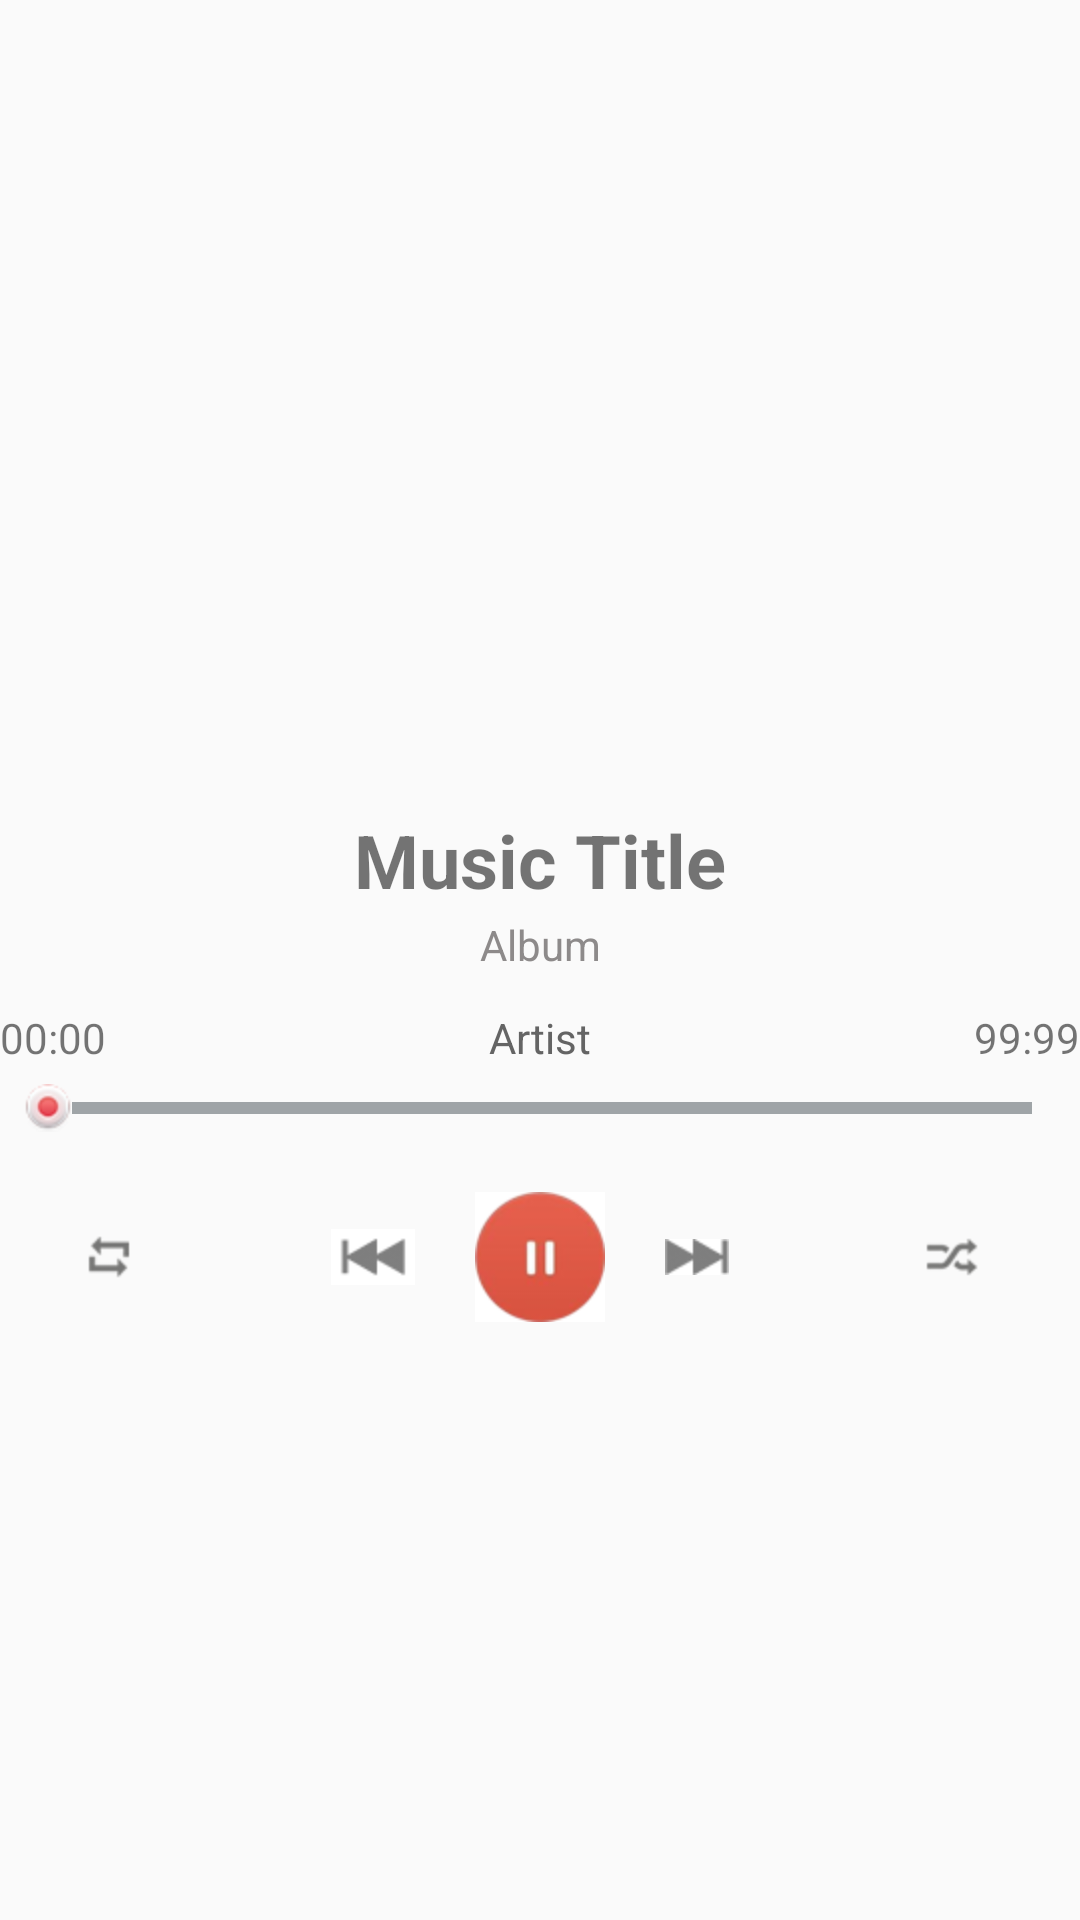

Icons on this 1080 × 1920 Android screen, each with its box as (x1, y1, x2, y2):
music player control pause: (475, 1192, 605, 1322)
music player next: (665, 1239, 729, 1275)
music player previous: (341, 1239, 405, 1275)
music player round all: (88, 1237, 130, 1277)
music player shuffler: (926, 1239, 977, 1275)
